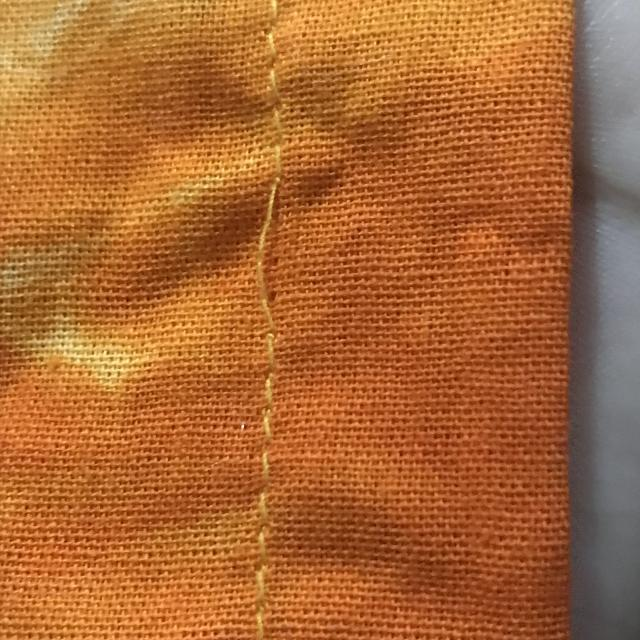good: (256, 413, 276, 578)
skip: (236, 134, 300, 356)
